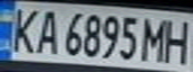5: (118, 12, 145, 62)
6: (57, 8, 84, 57)
8: (78, 10, 103, 58)
9: (100, 11, 124, 60)
A: (30, 6, 63, 55)
H: (160, 16, 193, 65)
K: (3, 4, 42, 55)
M: (139, 15, 172, 63)
